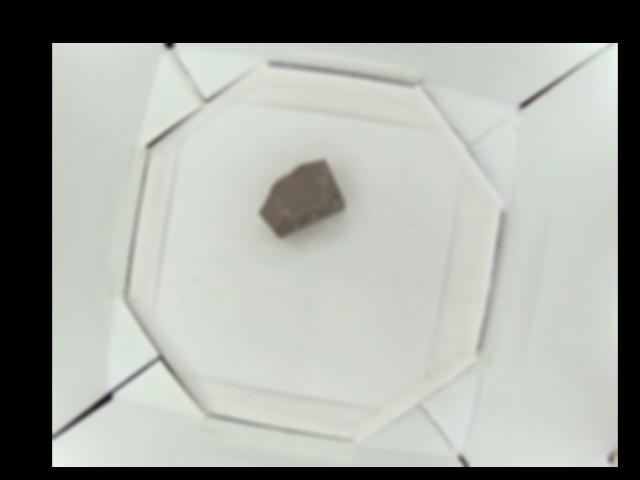China: (259, 157, 345, 239)
